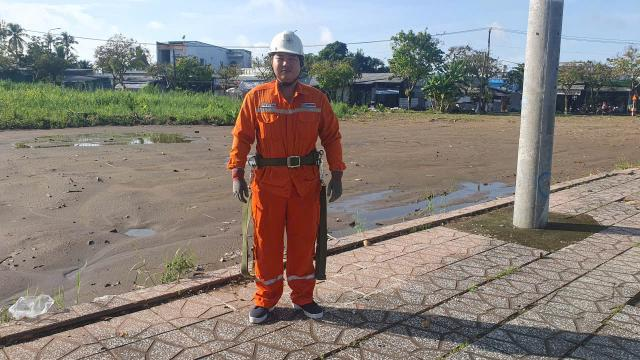gloves: (228, 166, 252, 206), (322, 167, 348, 202)
harness: (242, 145, 332, 173)
helmet: (265, 26, 314, 60)
shoes: (240, 288, 280, 326), (290, 288, 331, 322)
